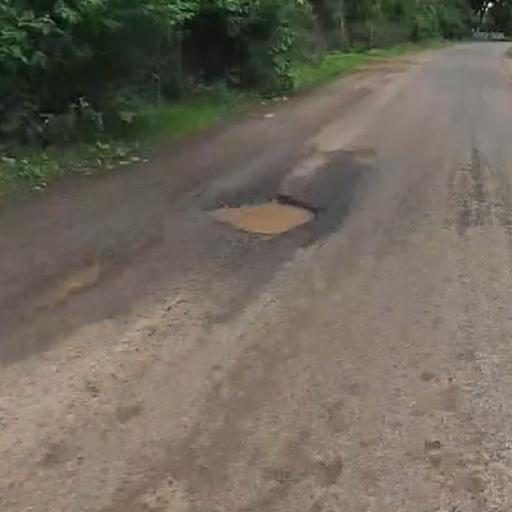pothole: (160, 154, 369, 304)
